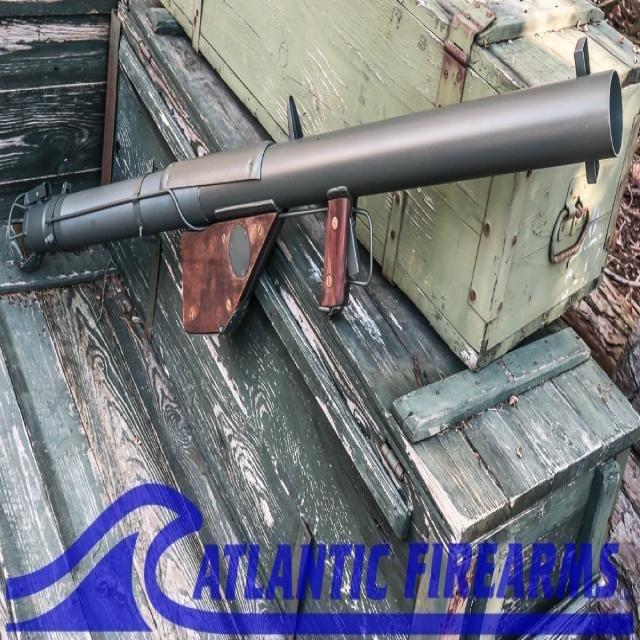bazooka: (5, 36, 639, 339)
